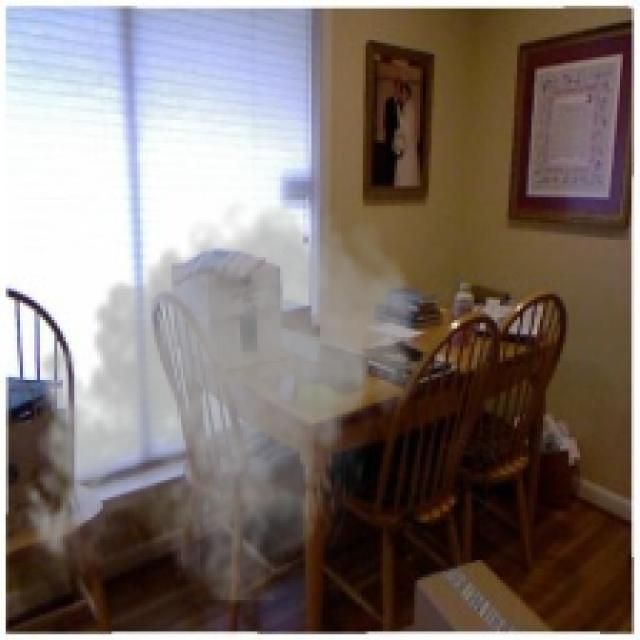Smoke: (11, 191, 426, 606)
